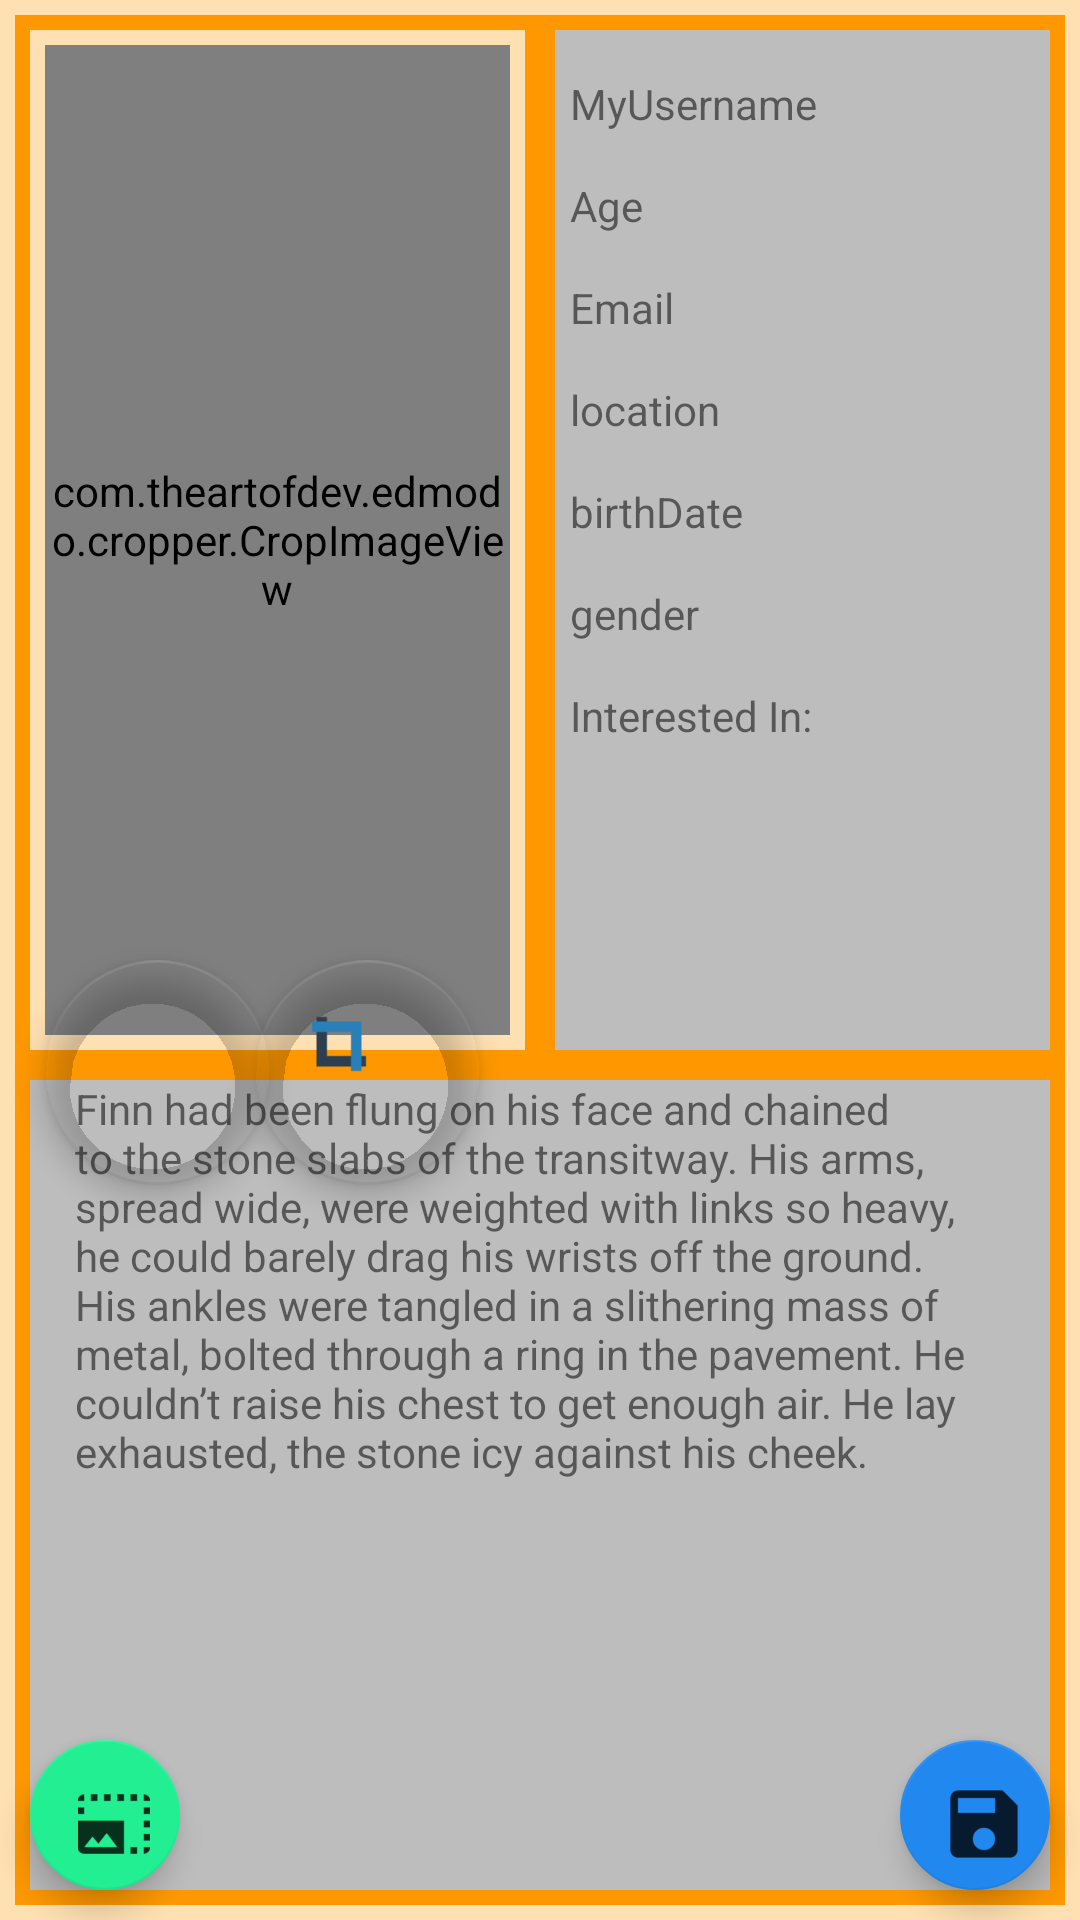

Icons on this 1080×1920 Android screen, each with the point to tap as (x=x, y=y):
save: (x=975, y=1815)
